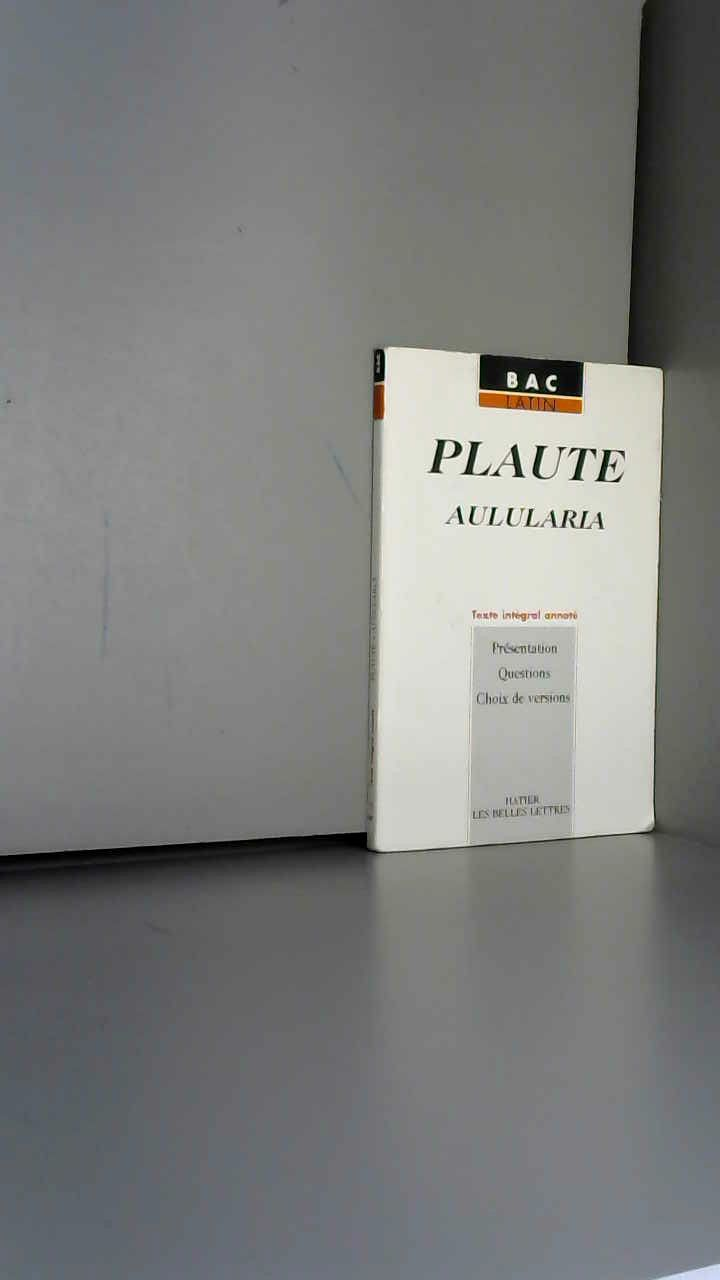book: (350, 320, 720, 876)
